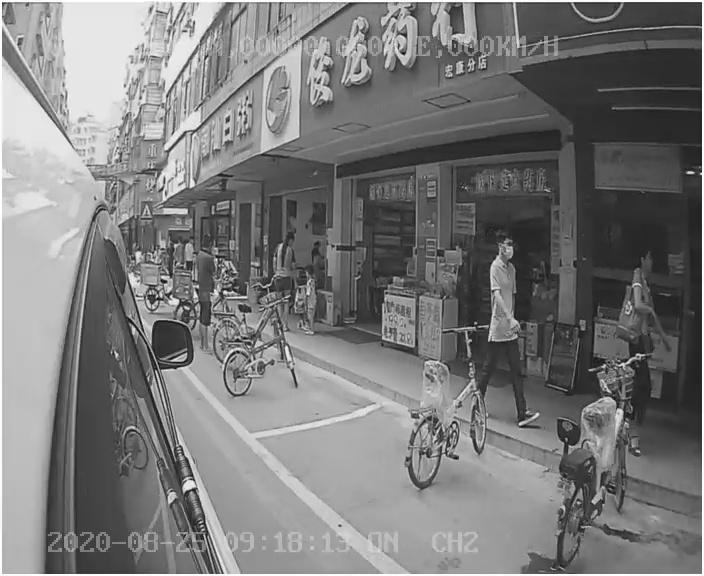person: (468, 233, 548, 433)
